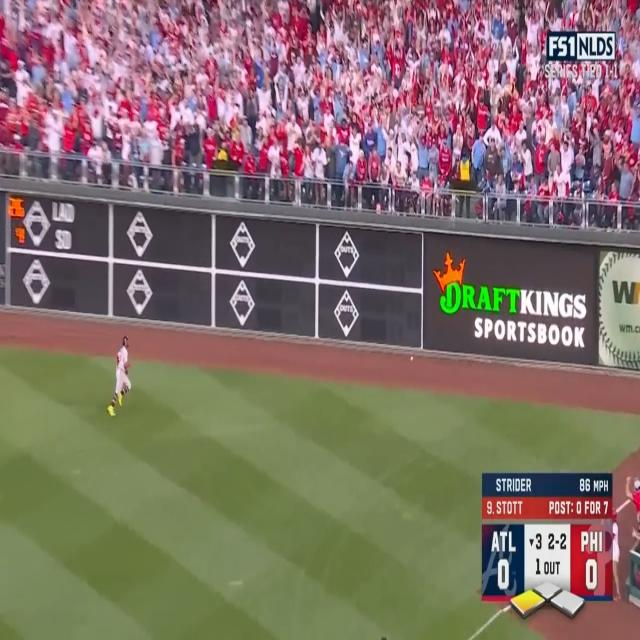baseball: (410, 356, 413, 361)
